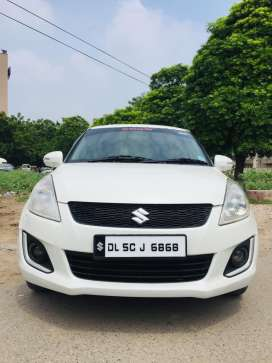license_plate: (94, 235, 187, 259)
